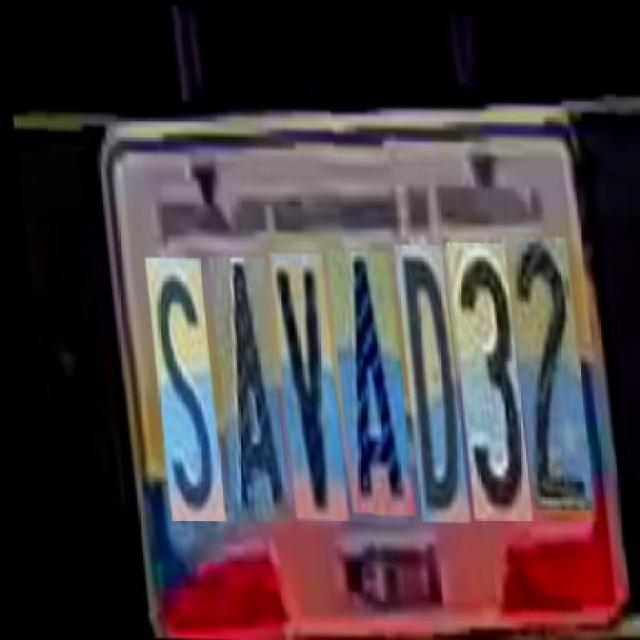2: (502, 232, 583, 506)
3: (441, 238, 521, 517)
a: (320, 248, 405, 512), (202, 256, 280, 521)
d: (388, 241, 459, 519)
s: (139, 257, 215, 520)
v: (264, 251, 338, 518)
